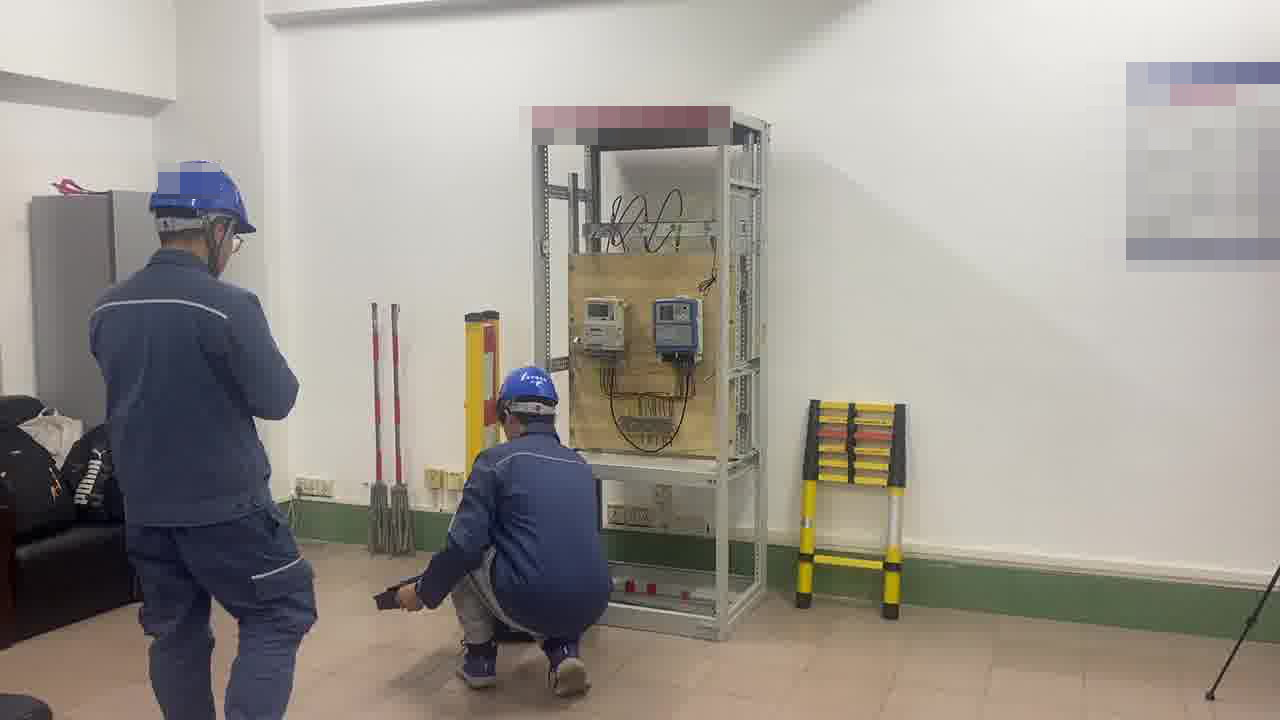downsuit: (130, 527, 314, 719)
halt: (147, 161, 256, 268), (496, 365, 562, 428)
hand: (395, 581, 426, 613)
inear: (197, 211, 238, 264)
person: (82, 157, 326, 720), (390, 363, 611, 696)
upsuit: (87, 252, 298, 519), (419, 429, 607, 607)
